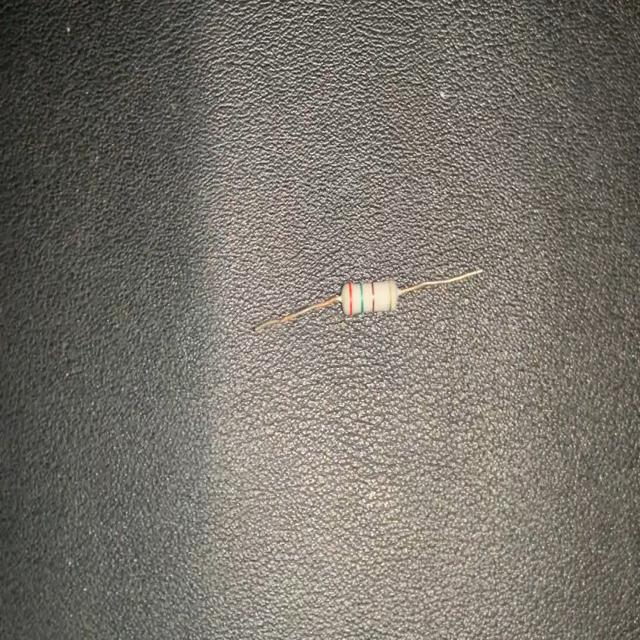resistor: (248, 259, 488, 339)
